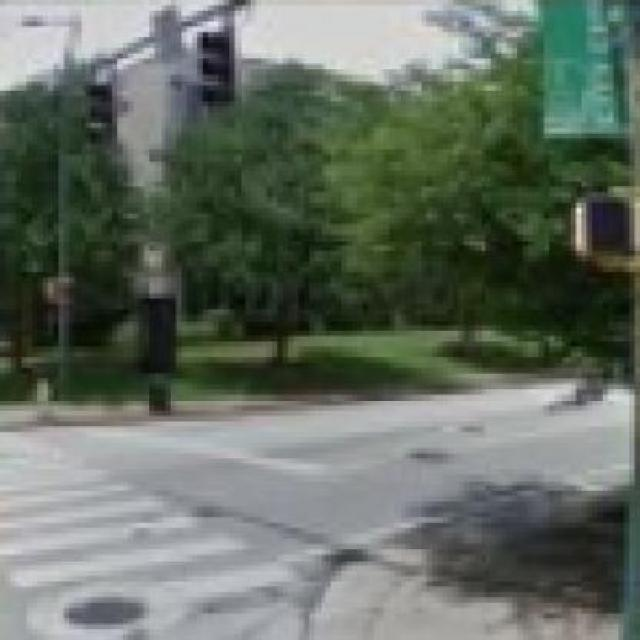crosswalk: (0, 425, 305, 637)
